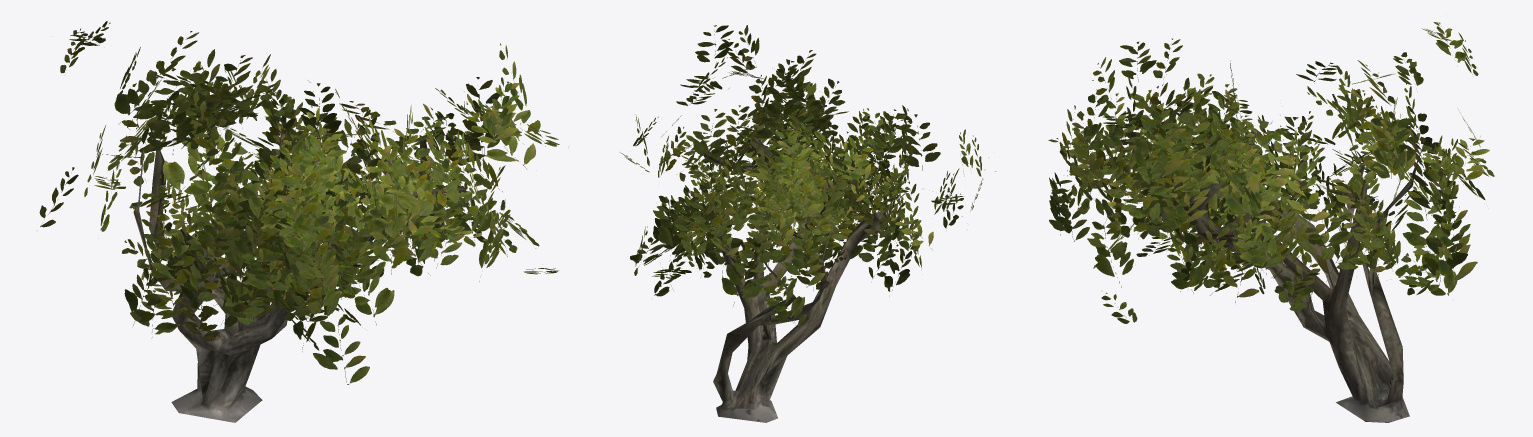
File: arbol_isla2_lod1.glb
3 views of the same model, side by side, from view 1: azimuth 30°, elevation 25°; view 2: azimuth 150°, elevation 25°; view 3: azimuth 270°, elevation 25° (orthographic). The views are drawn at different scales.
Parts seen in each view (by area): view 1: island_tree_02_LOD0; view 2: island_tree_02_LOD0; view 3: island_tree_02_LOD0.
Boxes of the visible parts, x1,y1,x2,y2 form: island_tree_02_LOD0: (37, 21, 559, 422); island_tree_02_LOD0: (620, 25, 996, 422); island_tree_02_LOD0: (1048, 22, 1494, 422).
Size of the model in its own units: 8.29 by 7 by 8.51.
Materials: 3 (3 with a texture image).
